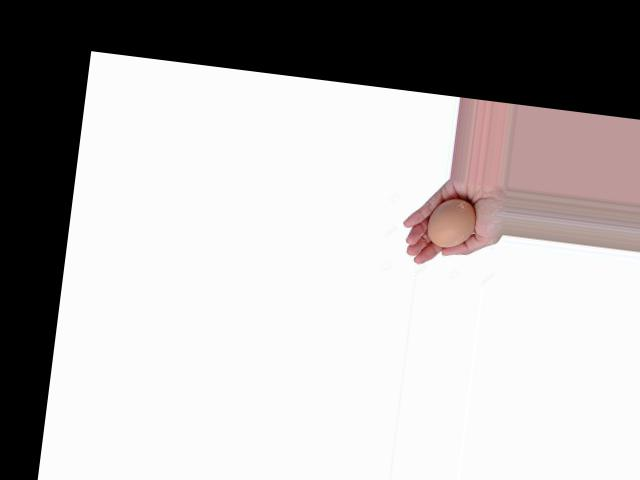egg: (424, 195, 477, 250)
